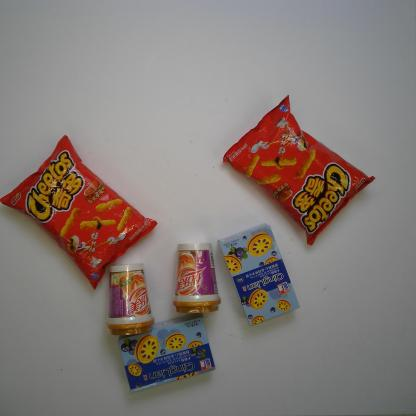Dessert: (217, 222, 302, 329), (115, 310, 219, 396)
Instant Drink: (102, 260, 158, 338), (169, 240, 223, 316)
Puffed Food: (0, 133, 161, 291), (220, 93, 376, 250)
